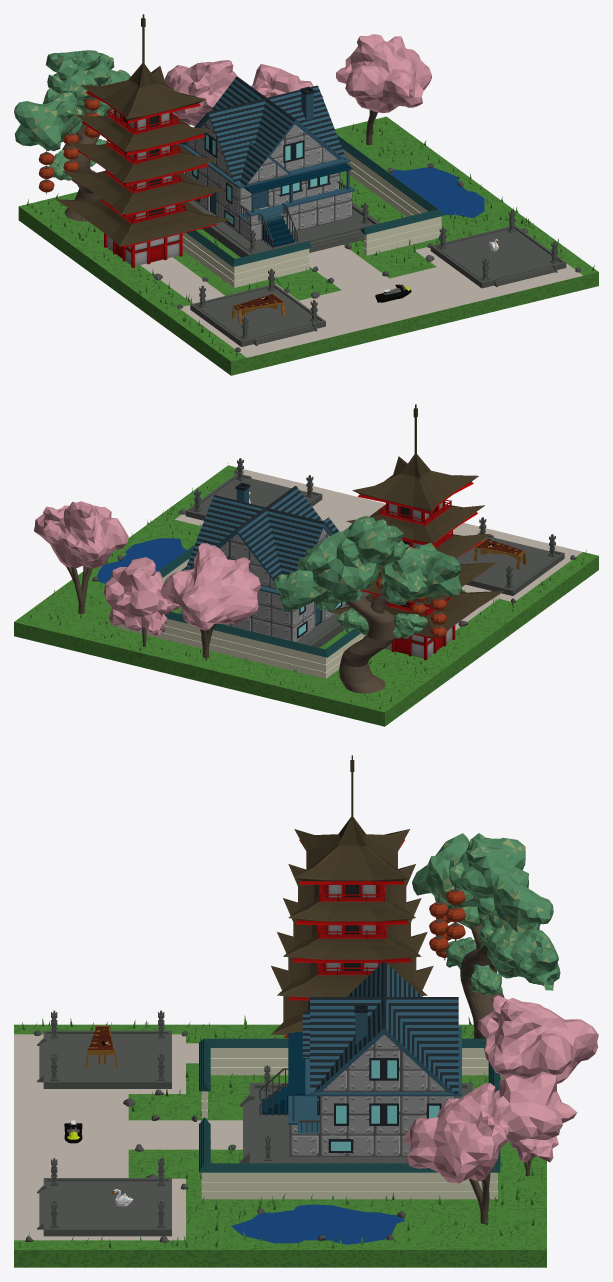
3 views of the same model, one above another, from view 1: azimuth 30°, elevation 25°; view 2: azimuth 150°, elevation 25°; view 3: azimuth 270°, elevation 25° (orthographic). The views are drawn at different scales.
Parts seen in each view (by area): view 1: Cube.005, Cube.078, OBJRANDOM_MARIMBA; view 2: Cube.005, Cube.078, OBJRANDOM_MARIMBA; view 3: Cube.005, Cube.078, OBJRANDOM_MARIMBA.
Part boxes in pixels (x1,y1,x2,y2): Cube.005: [14, 14, 598, 375]; Cube.078: [179, 76, 354, 248]; OBJRANDOM_MARIMBA: [232, 293, 285, 323]; Cube.005: [14, 404, 598, 726]; Cube.078: [181, 482, 347, 642]; OBJRANDOM_MARIMBA: [473, 538, 526, 569]; Cube.005: [14, 755, 598, 1267]; Cube.078: [259, 961, 461, 1156]; OBJRANDOM_MARIMBA: [85, 1025, 117, 1068].
Size of the model in its own units: 4528 by 2842 by 4389.
36 materials, 7 textured.
